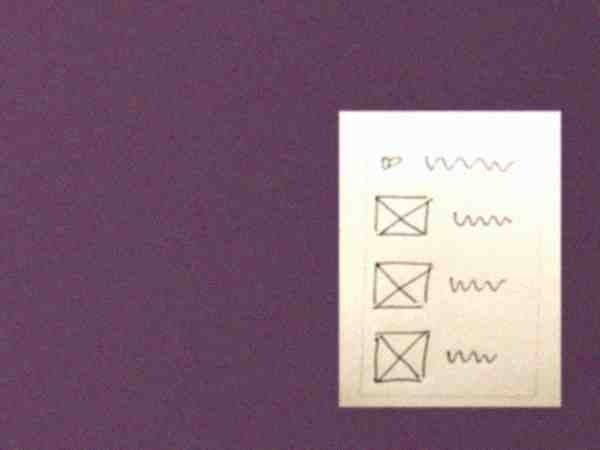image: (370, 330, 434, 387), (370, 259, 436, 313), (372, 190, 434, 243)
switch: (377, 150, 405, 173)
text: (421, 150, 518, 179), (447, 205, 515, 231), (446, 273, 509, 299), (445, 345, 500, 370)
